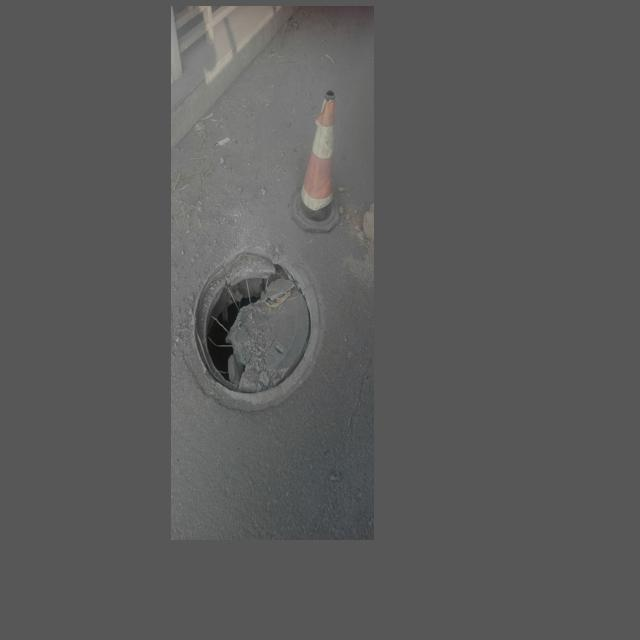broke: (177, 232, 325, 407)
